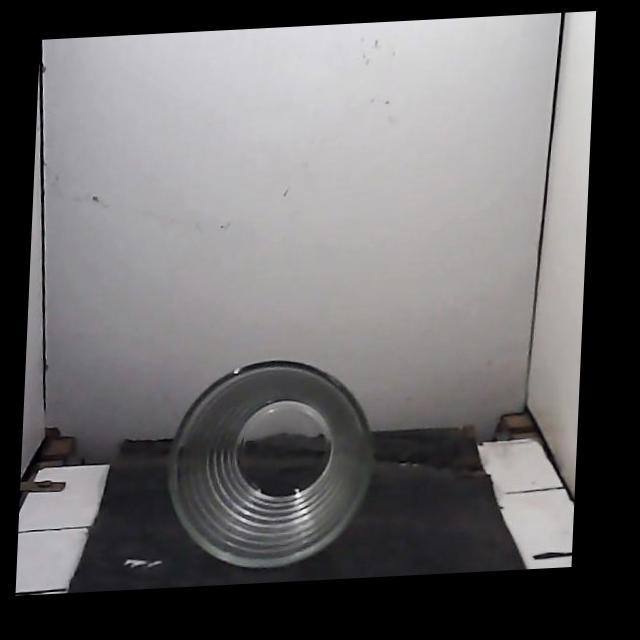vidro: (168, 361, 373, 568)
